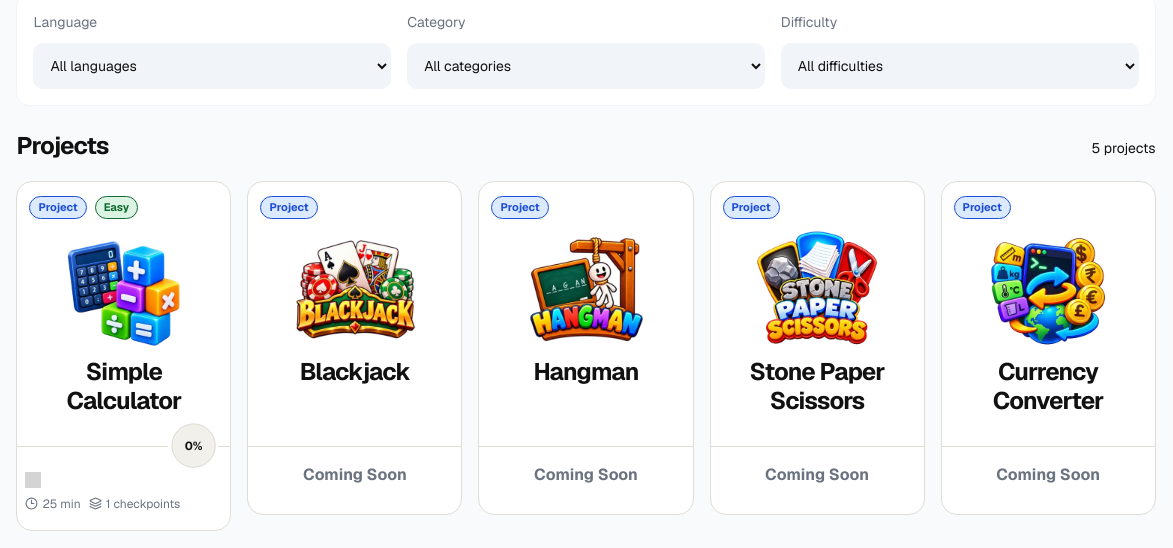
Projects filter cleanup › filters medium projects and updates heading/count
Expected: the text "5 projects" is shown, [1092, 137, 1156, 161]
Select "Medium" in the dropdown labelled "Difficulty" at (960, 66), box [781, 42, 1139, 88]
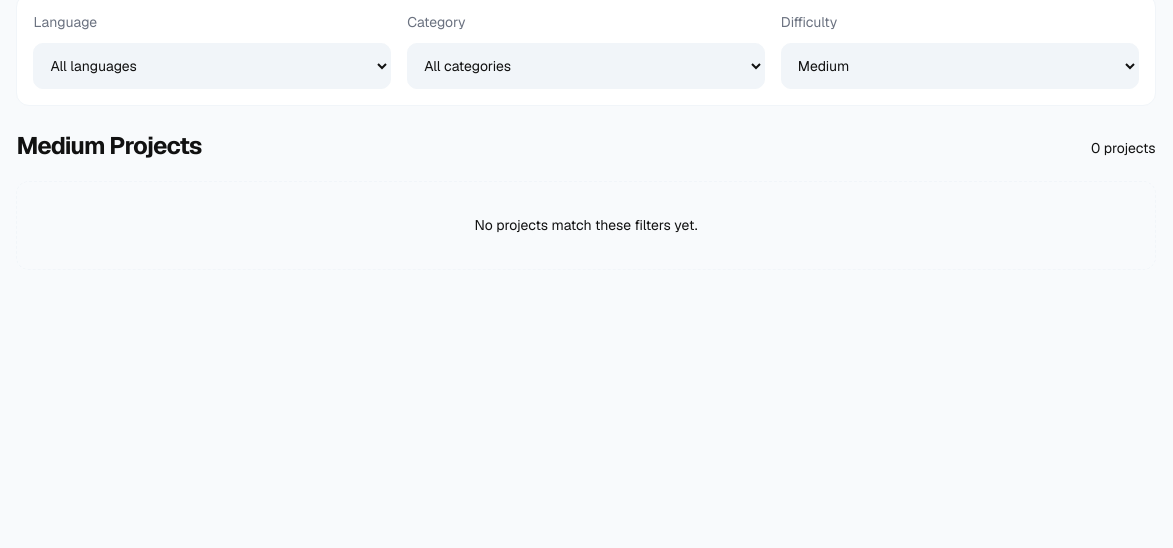
Now the heading "Medium Projects" is shown, box [16, 130, 202, 161]
Now the text "No projects match these filters yet." is shown, box [16, 181, 1156, 270]
